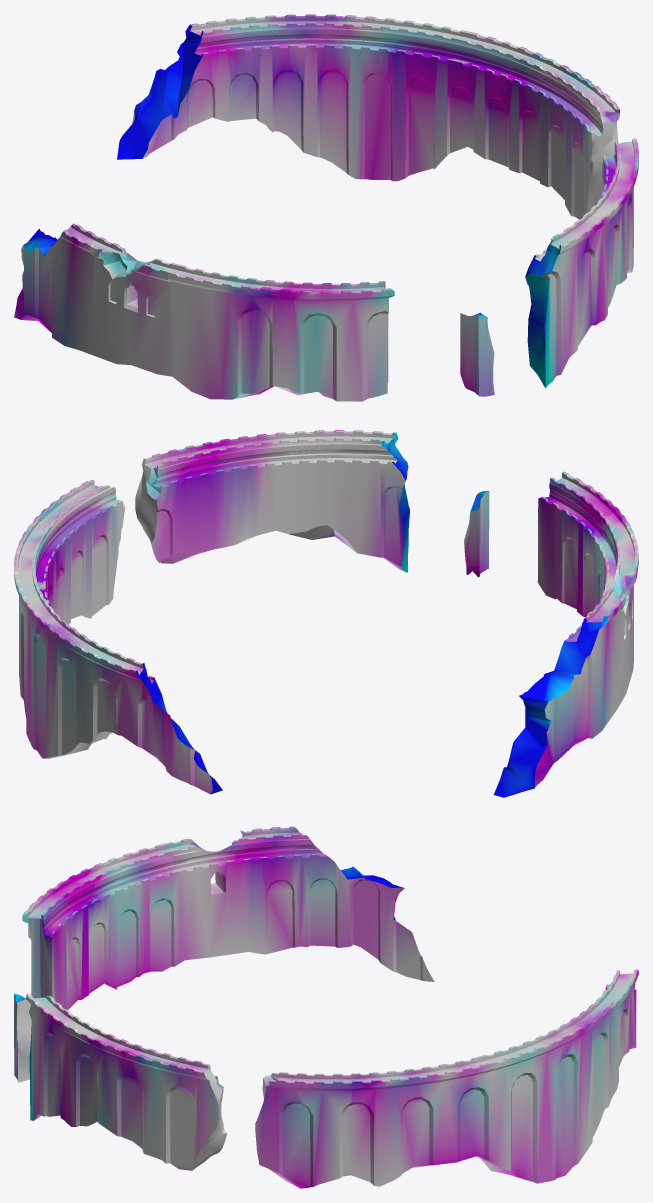
File: wall02.fbx
3 views of the same model, one above another, from view 1: azimuth 30°, elevation 25°; view 2: azimuth 150°, elevation 25°; view 3: azimuth 270°, elevation 25° (orthographic). The views are drawn at different scales.
Parts seen in each view (by area): view 1: Cube_108; view 2: Cube_108; view 3: Cube_108.
Part boxes in pixels (box(x1,y1,x2,y2)): Cube_108: box(14, 14, 638, 401); Cube_108: box(14, 430, 638, 797); Cube_108: box(14, 826, 638, 1188).
Size of the model in its own units: 4040 by 1066 by 4159.
